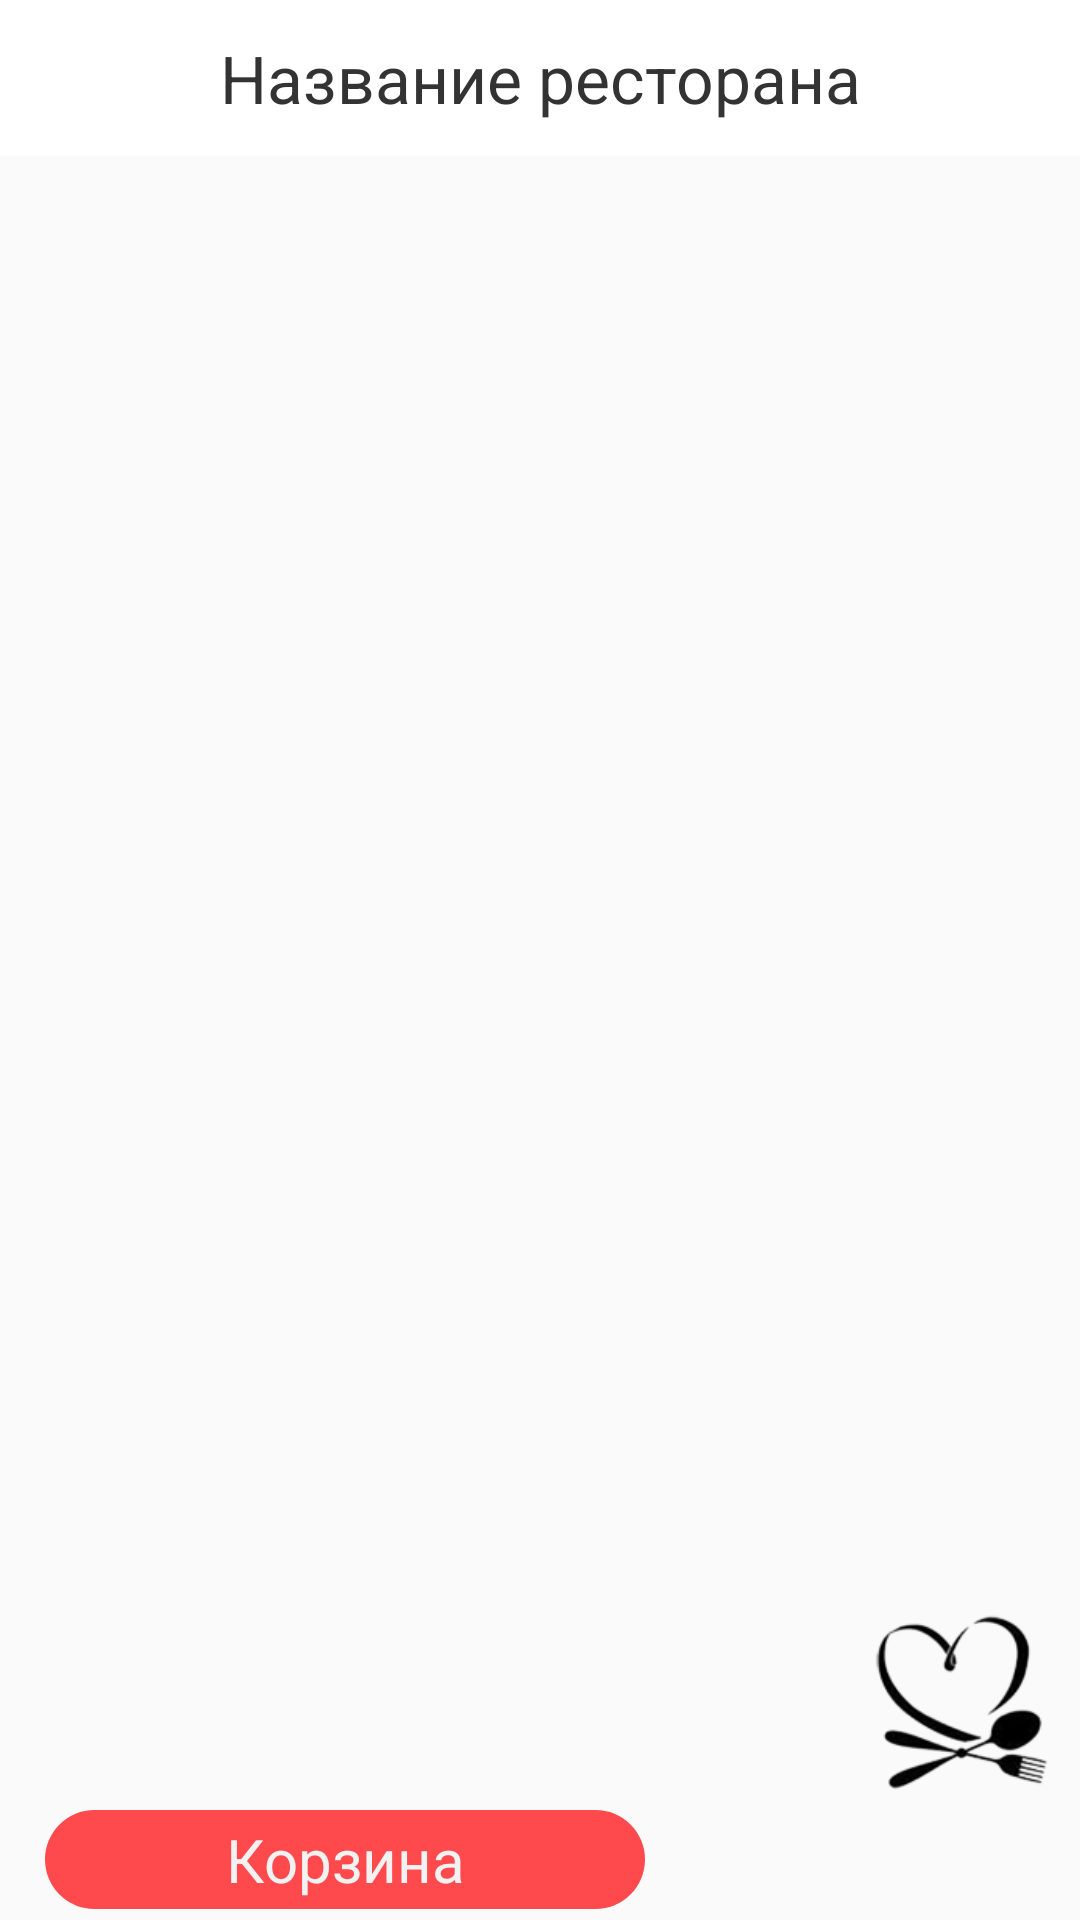

Where to tap for icons on this 1080x1920 app screen, as [x,y]:
menuontwo: [961,1702]
